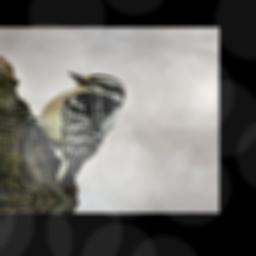Woodpecker: (0, 65, 131, 202)
